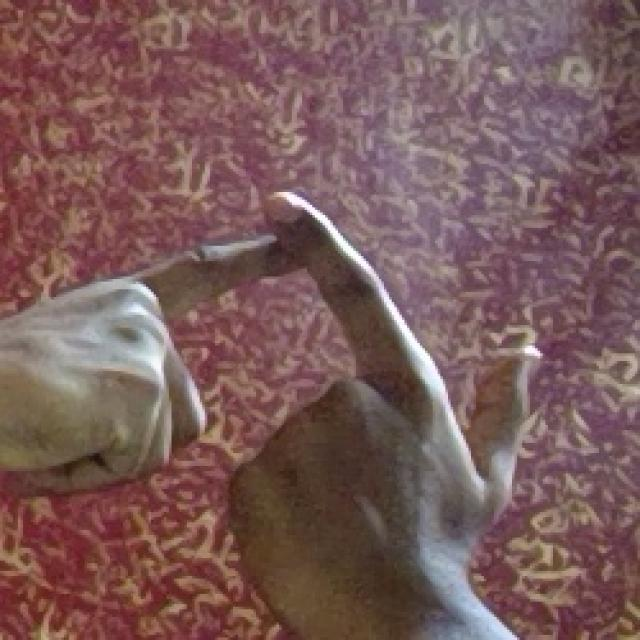Alphabet-J: (11, 185, 546, 640)
